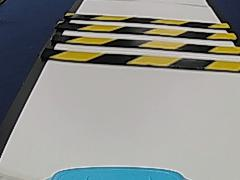bump: (43, 9, 239, 77)
